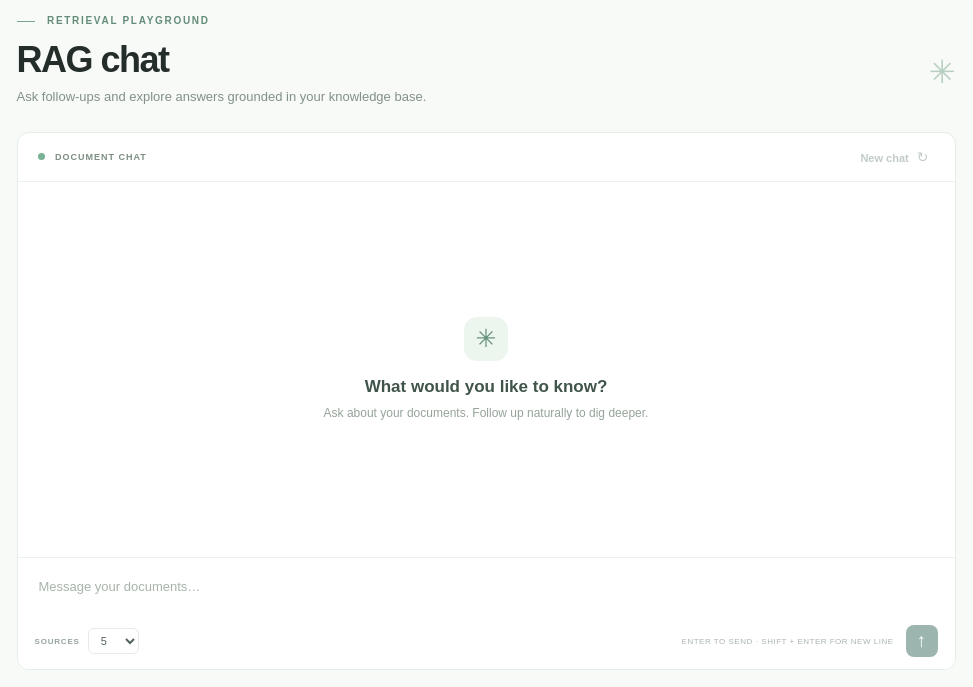
Test case: ChatPage › keeps the conversation and allows retry after an API error
In the text box labelled "Message": (486, 598) [34,571,938,625], type "Ask a question"
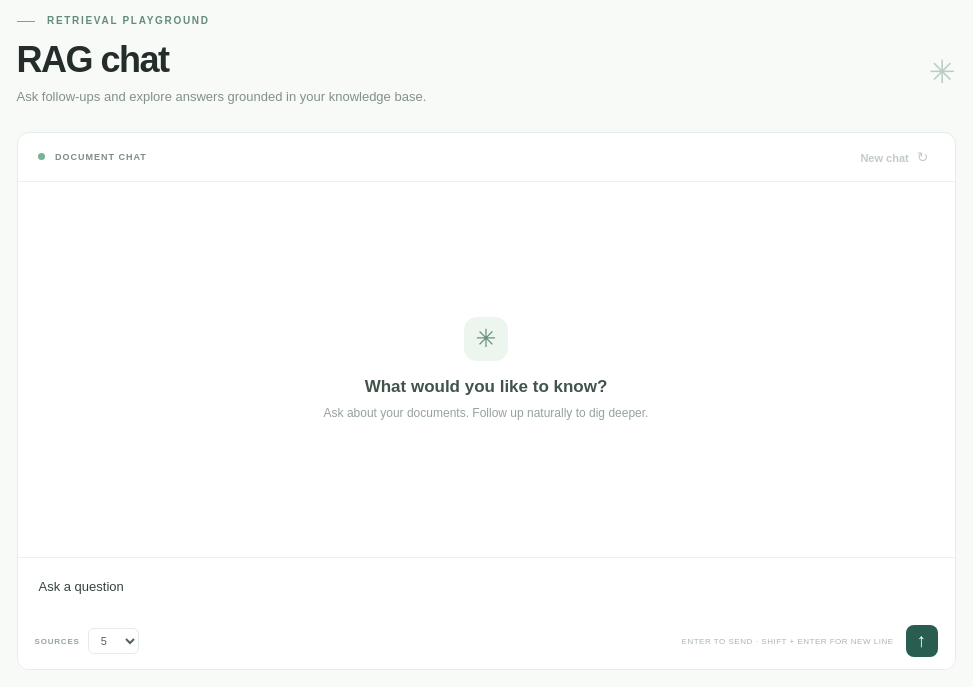
Click the button named "Send message": click(922, 641) [906,625,938,657]
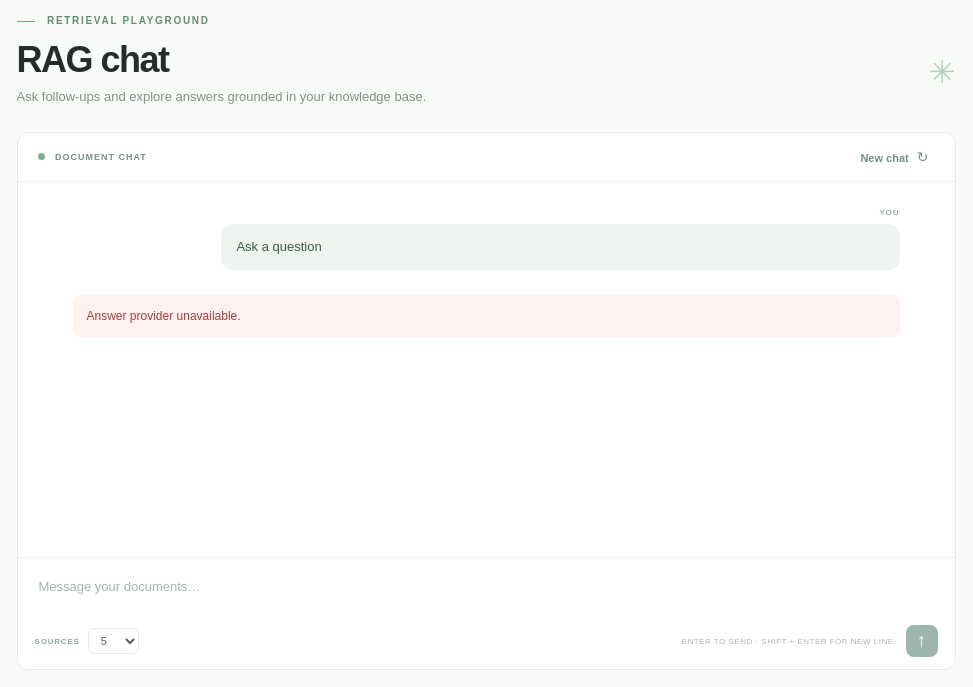
Check: the message reads "Answer provider unavailable.", box [86,309,241,323]
Check: the text "Ask a question" is shown, box [221,224,900,270]
In the text box labelled "Message": (486, 598) [34,571,938,625], type "Try again"
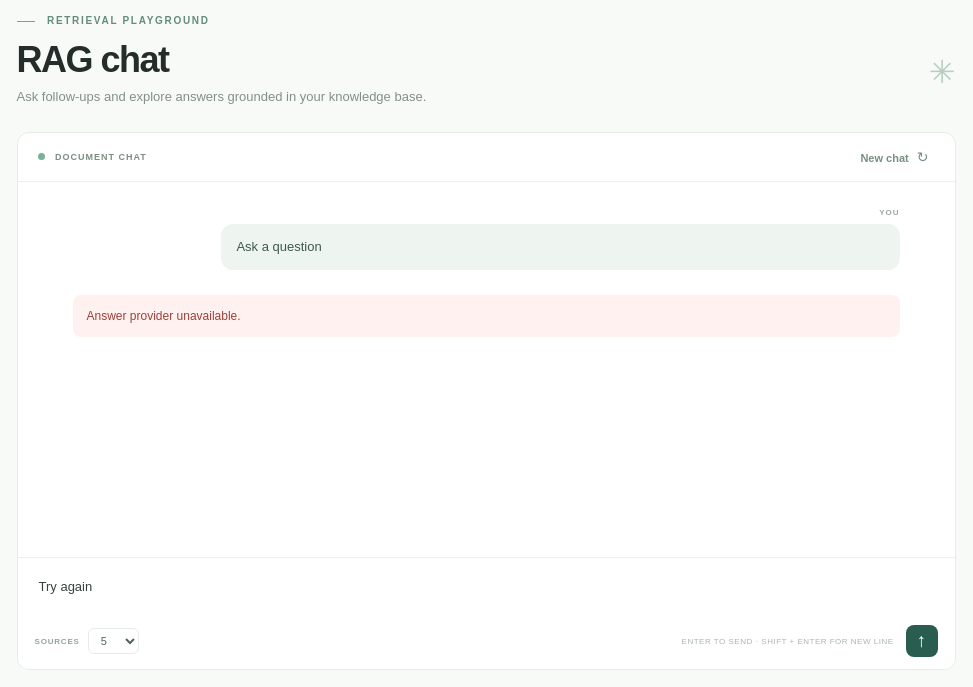
Click the button named "Send message": click(922, 641) [906,625,938,657]
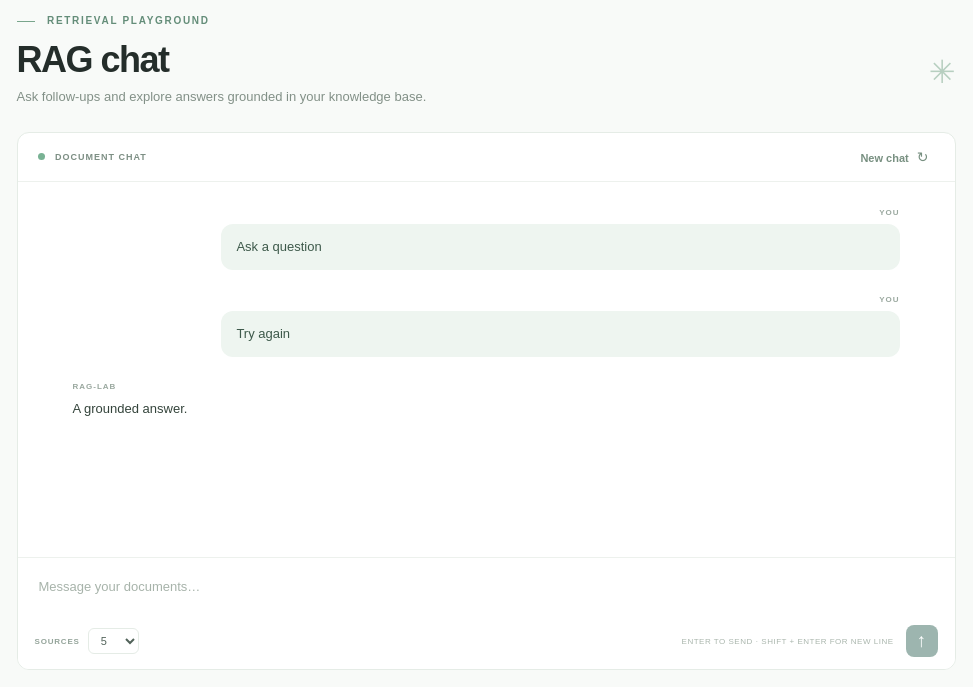
Check: the text "A grounded answer." is shown, box [72,401,187,416]
